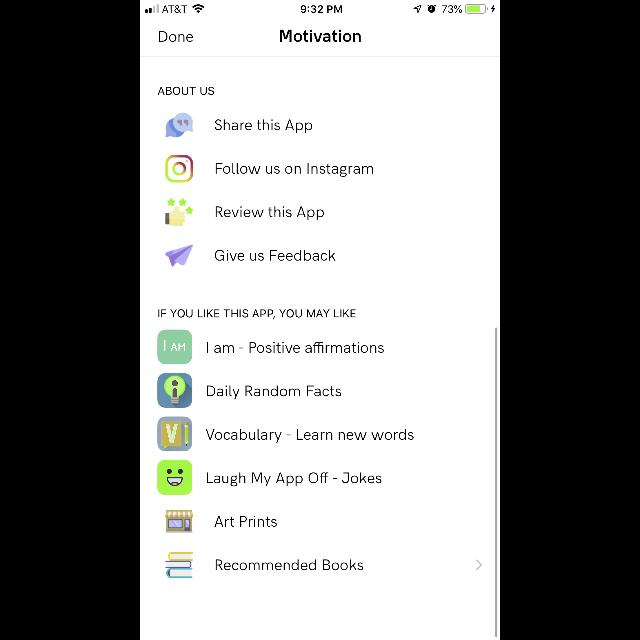icon: (476, 560, 482, 570)
image: (158, 416, 192, 452), (158, 460, 192, 496), (158, 330, 192, 364), (158, 374, 192, 408), (165, 155, 193, 183), (165, 198, 193, 226), (166, 112, 194, 138), (165, 552, 193, 578), (165, 511, 193, 534), (165, 245, 193, 267)
text: (206, 429, 414, 443), (206, 472, 382, 486), (215, 163, 372, 177), (158, 309, 356, 319), (208, 342, 384, 353), (207, 385, 341, 399), (216, 206, 324, 220), (216, 560, 364, 570), (215, 120, 312, 134), (214, 250, 336, 260), (280, 30, 360, 42), (215, 516, 277, 526), (160, 30, 194, 44), (158, 87, 215, 95)
uppertaskbar: (140, 0, 500, 14)
